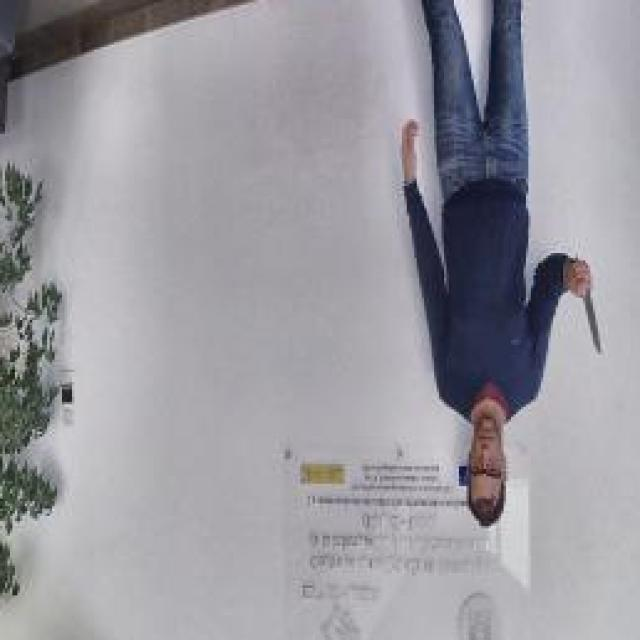knife: (573, 250, 604, 360)
